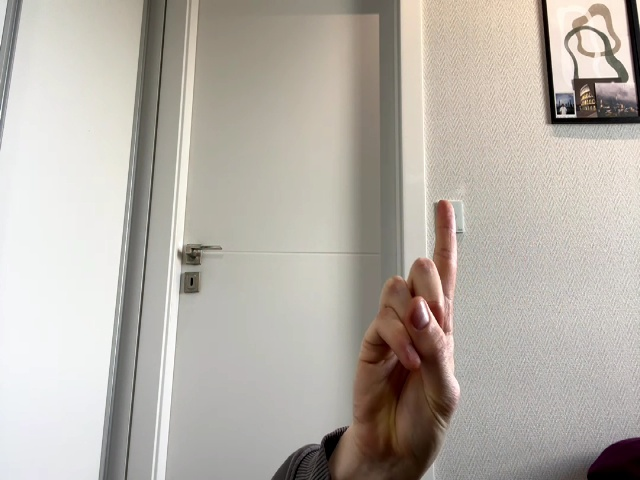Z: (353, 200, 460, 457)
